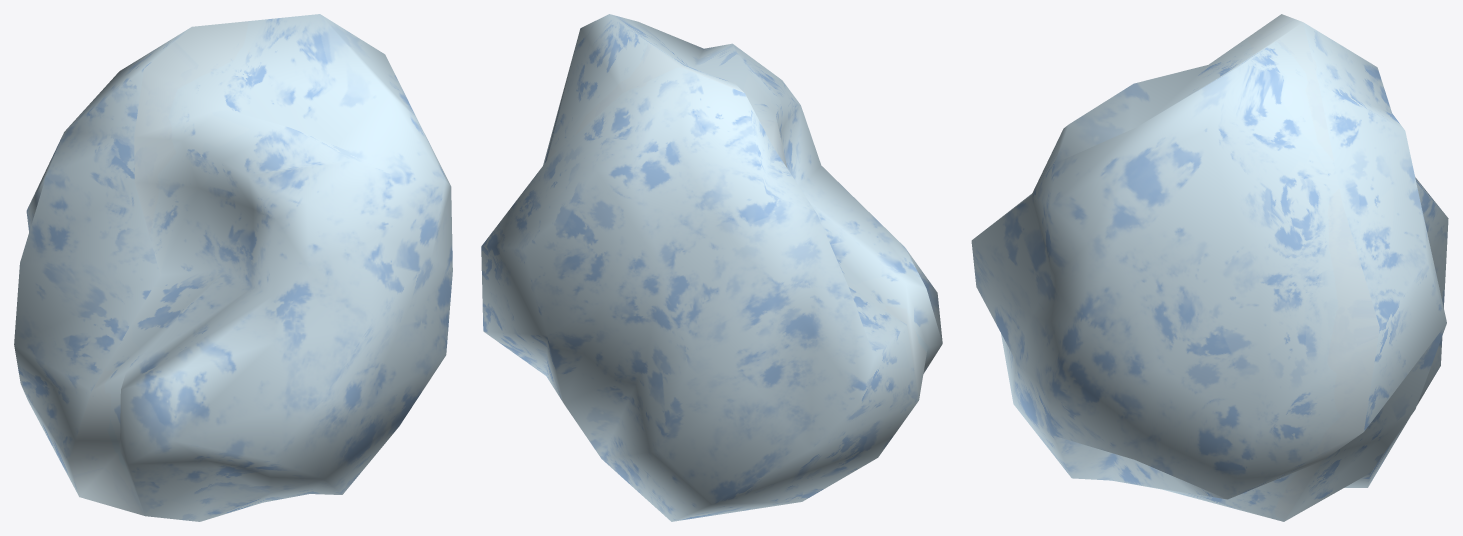
The model's file is methaneHydDep00.fbx.
3 renders of one model, left to right at view 1: azimuth 30°, elevation 25°; view 2: azimuth 150°, elevation 25°; view 3: azimuth 270°, elevation 25°, orthographic. The views are drawn at different scales.
Parts seen in each view (by area): view 1: Cube.017; view 2: Cube.017; view 3: Cube.017.
Part boxes in pixels (x1,y1,x2,y2): Cube.017: (14, 14, 452, 521); Cube.017: (481, 14, 942, 521); Cube.017: (971, 14, 1448, 521).
Bounding box in the file's own units: 143 × 160 × 142.
1 material, 1 textured.
